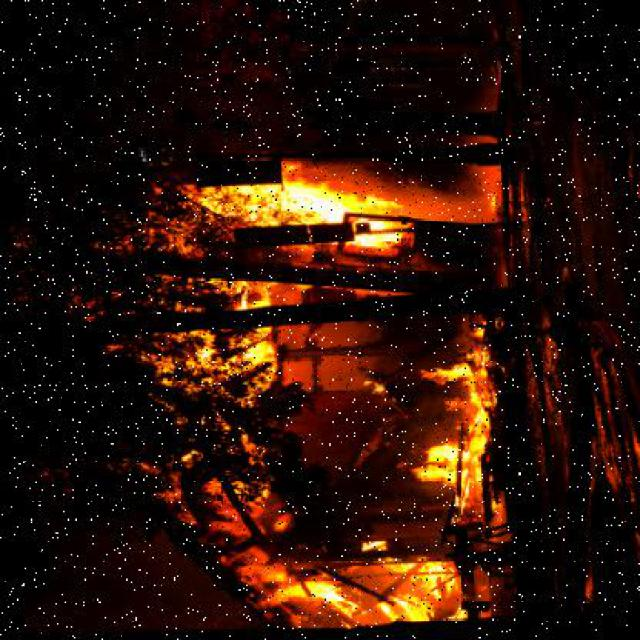fire: (216, 163, 507, 630)
